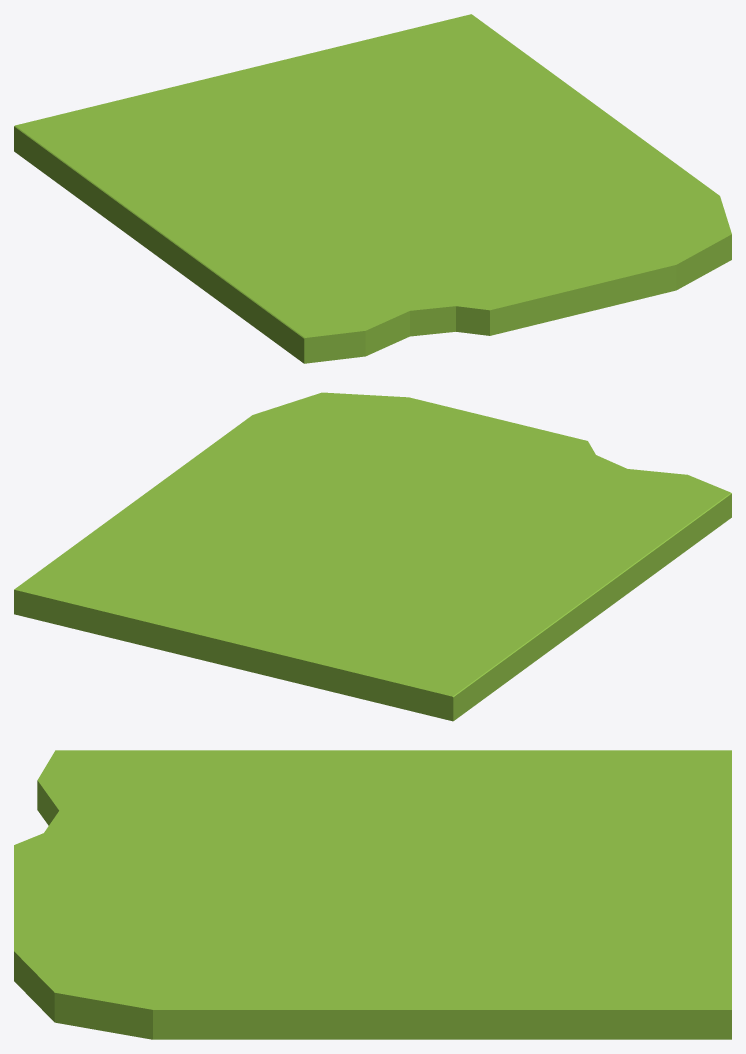
Rendered from gnd_green_02.fbx.
The picture shows the model from 3 angles, top to bottom: view 1: azimuth 30°, elevation 25°; view 2: azimuth 150°, elevation 25°; view 3: azimuth 270°, elevation 25°; orthographic projection. The views are drawn at different scales.
Visible parts, largest first — view 1: gnd_green_02; view 2: gnd_green_02; view 3: gnd_green_02.
Boxes of the visible parts, <box> form: gnd_green_02: <box>14,14,731,363</box>; gnd_green_02: <box>14,392,731,721</box>; gnd_green_02: <box>14,750,731,1039</box>.
Size of the model in its own units: 7648 by 410 by 8920.
